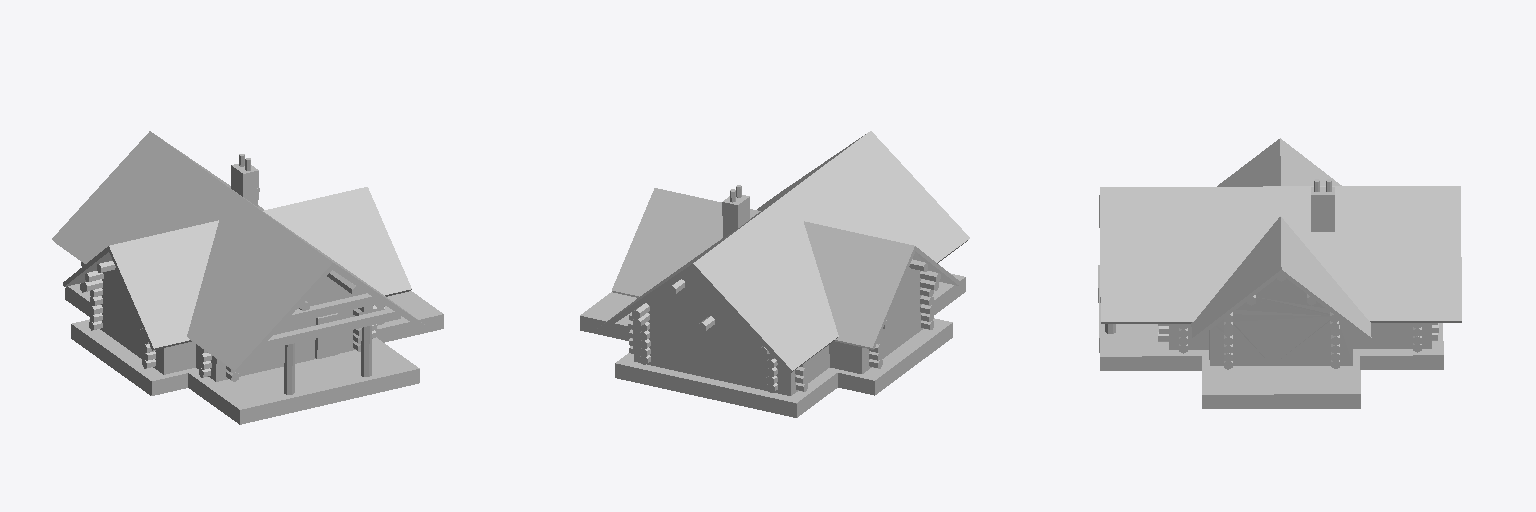
File: floor3.obj
3 renders of one model, left to right at view 1: azimuth 30°, elevation 25°; view 2: azimuth 150°, elevation 25°; view 3: azimuth 270°, elevation 25°, orthographic.
Visible parts, largest first — view 1: Cottage.004; view 2: Cottage.004; view 3: Cottage.004.
Boxes of the visible parts, x1,y1,x2,y2 form: Cottage.004: [52, 131, 443, 424]; Cottage.004: [580, 131, 969, 417]; Cottage.004: [1098, 138, 1461, 408].
Bounding box in the file's own units: 14.26 × 7.39 × 15.08.